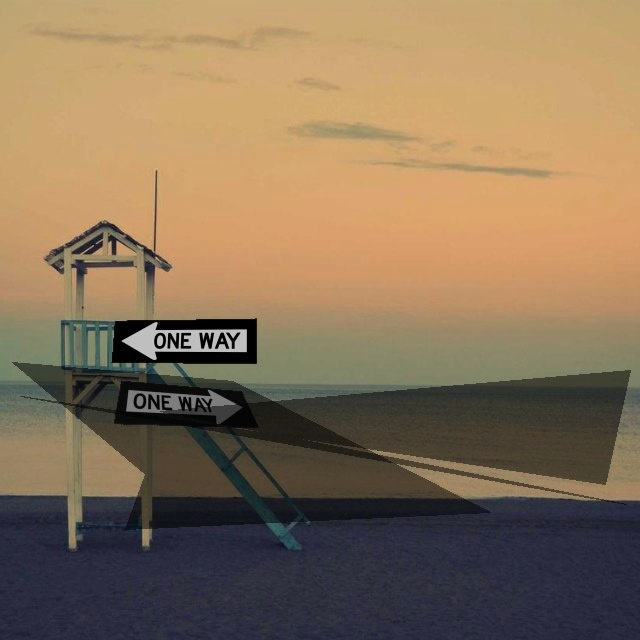ONE_WAY_ left: (111, 318, 257, 364)
ONE_WAY_ right: (113, 380, 259, 428)
